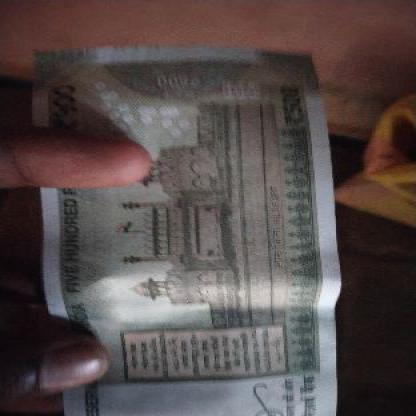New500Back: (33, 53, 332, 415)
